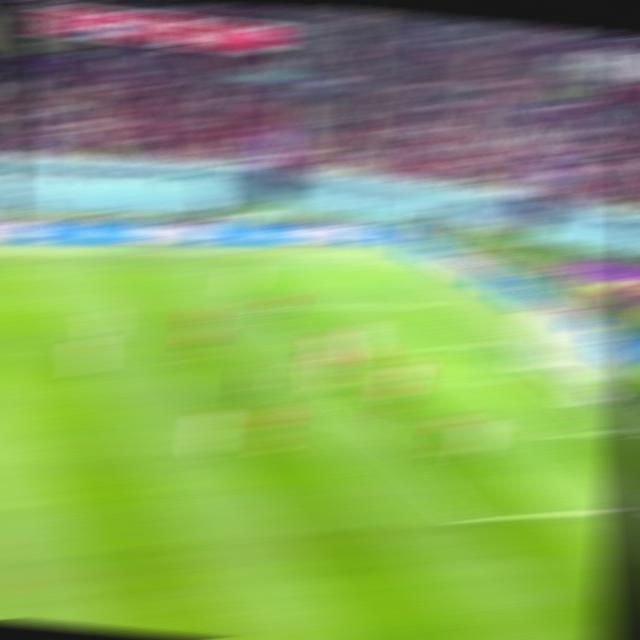bigarea_bottom_inner: (446, 504, 485, 532)
bigarea_top_inner: (241, 296, 276, 318)
bigarea_top_outter: (418, 296, 451, 311)
bottom_arc_area_intersection: (360, 419, 396, 440)
corner: (361, 257, 394, 270)
smallarea_bottom_inner: (526, 421, 565, 447)
smallarea_bottom_outter: (600, 422, 634, 439)
smallarea_top_inner: (416, 335, 449, 356)
smallarea_top_outter: (476, 332, 510, 353)
top_arc_area_intersection: (290, 346, 324, 366)
